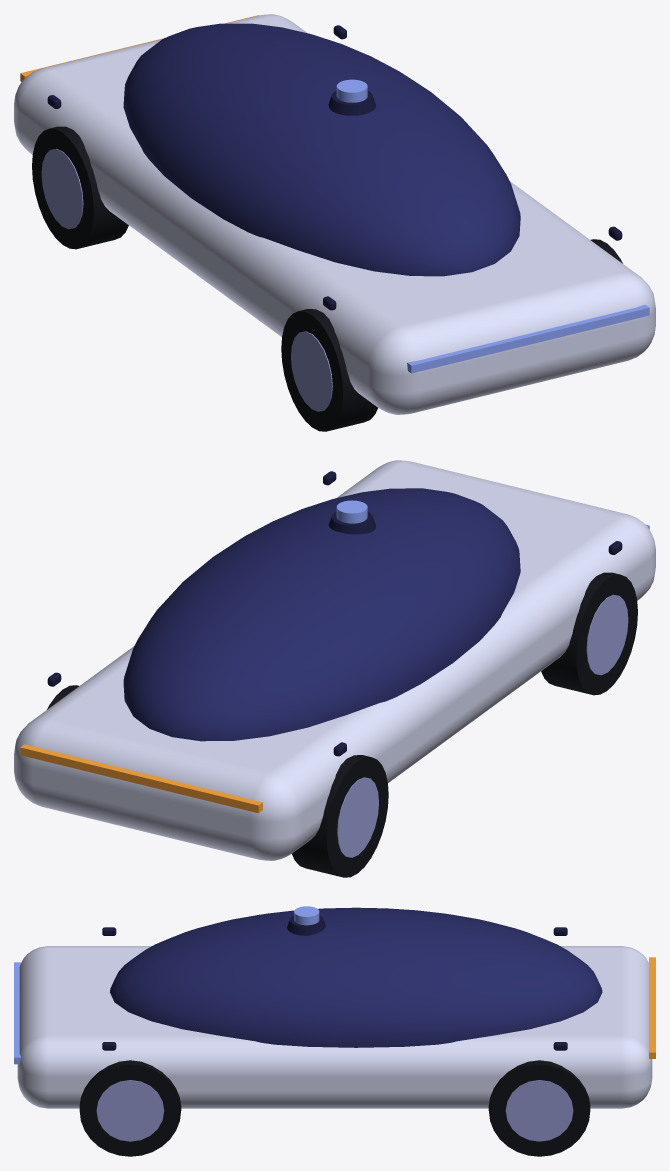
File: autoCar.glb
3 renders of one model, top to bottom at view 1: azimuth 30°, elevation 25°; view 2: azimuth 150°, elevation 25°; view 3: azimuth 270°, elevation 25°, orthographic. The views are drawn at different scales.
Parts seen in each view (by area): view 1: cabin, body, wheel3, wheel1, headBar, lidar, lidarHead; view 2: cabin, body, wheel1, wheel3, tailBar, lidarHead, lidar; view 3: cabin, body, wheel0, wheel2, tailBar, headBar, lidar, lidarHead.
Boxes of the visible parts, x1=… form: cabin: x1=123, y1=23, x2=520, y2=276; body: x1=14, y1=14, x2=655, y2=414; wheel3: x1=32, y1=126, x2=128, y2=249; wheel1: x1=281, y1=309, x2=377, y2=431; headBar: x1=407, y1=304, x2=649, y2=373; lidar: x1=328, y1=91, x2=376, y2=115; lidarHead: x1=336, y1=79, x2=367, y2=102; cabin: x1=123, y1=488, x2=520, y2=741; body: x1=14, y1=460, x2=655, y2=860; wheel1: x1=541, y1=572, x2=637, y2=695; wheel3: x1=292, y1=755, x2=388, y2=877; tailBar: x1=20, y1=744, x2=262, y2=813; lidarHead: x1=336, y1=500, x2=367, y2=523; lidar: x1=328, y1=511, x2=376, y2=534; cabin: x1=110, y1=907, x2=602, y2=1047; body: x1=17, y1=946, x2=652, y2=1108; wheel0: x1=79, y1=1060, x2=181, y2=1156; wheel2: x1=488, y1=1060, x2=590, y2=1156; tailBar: x1=649, y1=957, x2=655, y2=1058; headBar: x1=14, y1=962, x2=20, y2=1064; lidar: x1=287, y1=915, x2=325, y2=935; lidarHead: x1=294, y1=906, x2=319, y2=925.
Bounding box in the file's own units: 1.99 × 1.46 × 4.55.
